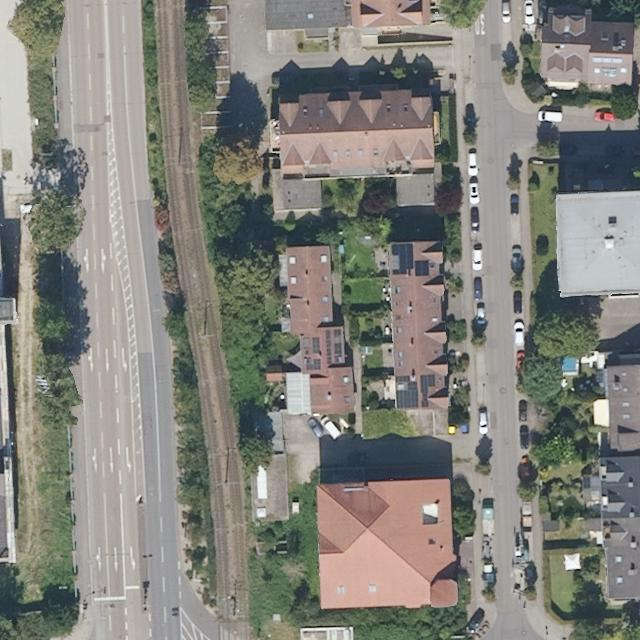PV: (394, 374, 420, 410), (390, 242, 414, 277), (420, 372, 437, 409), (323, 328, 333, 366), (414, 258, 430, 278), (303, 355, 322, 371), (312, 335, 322, 355)
